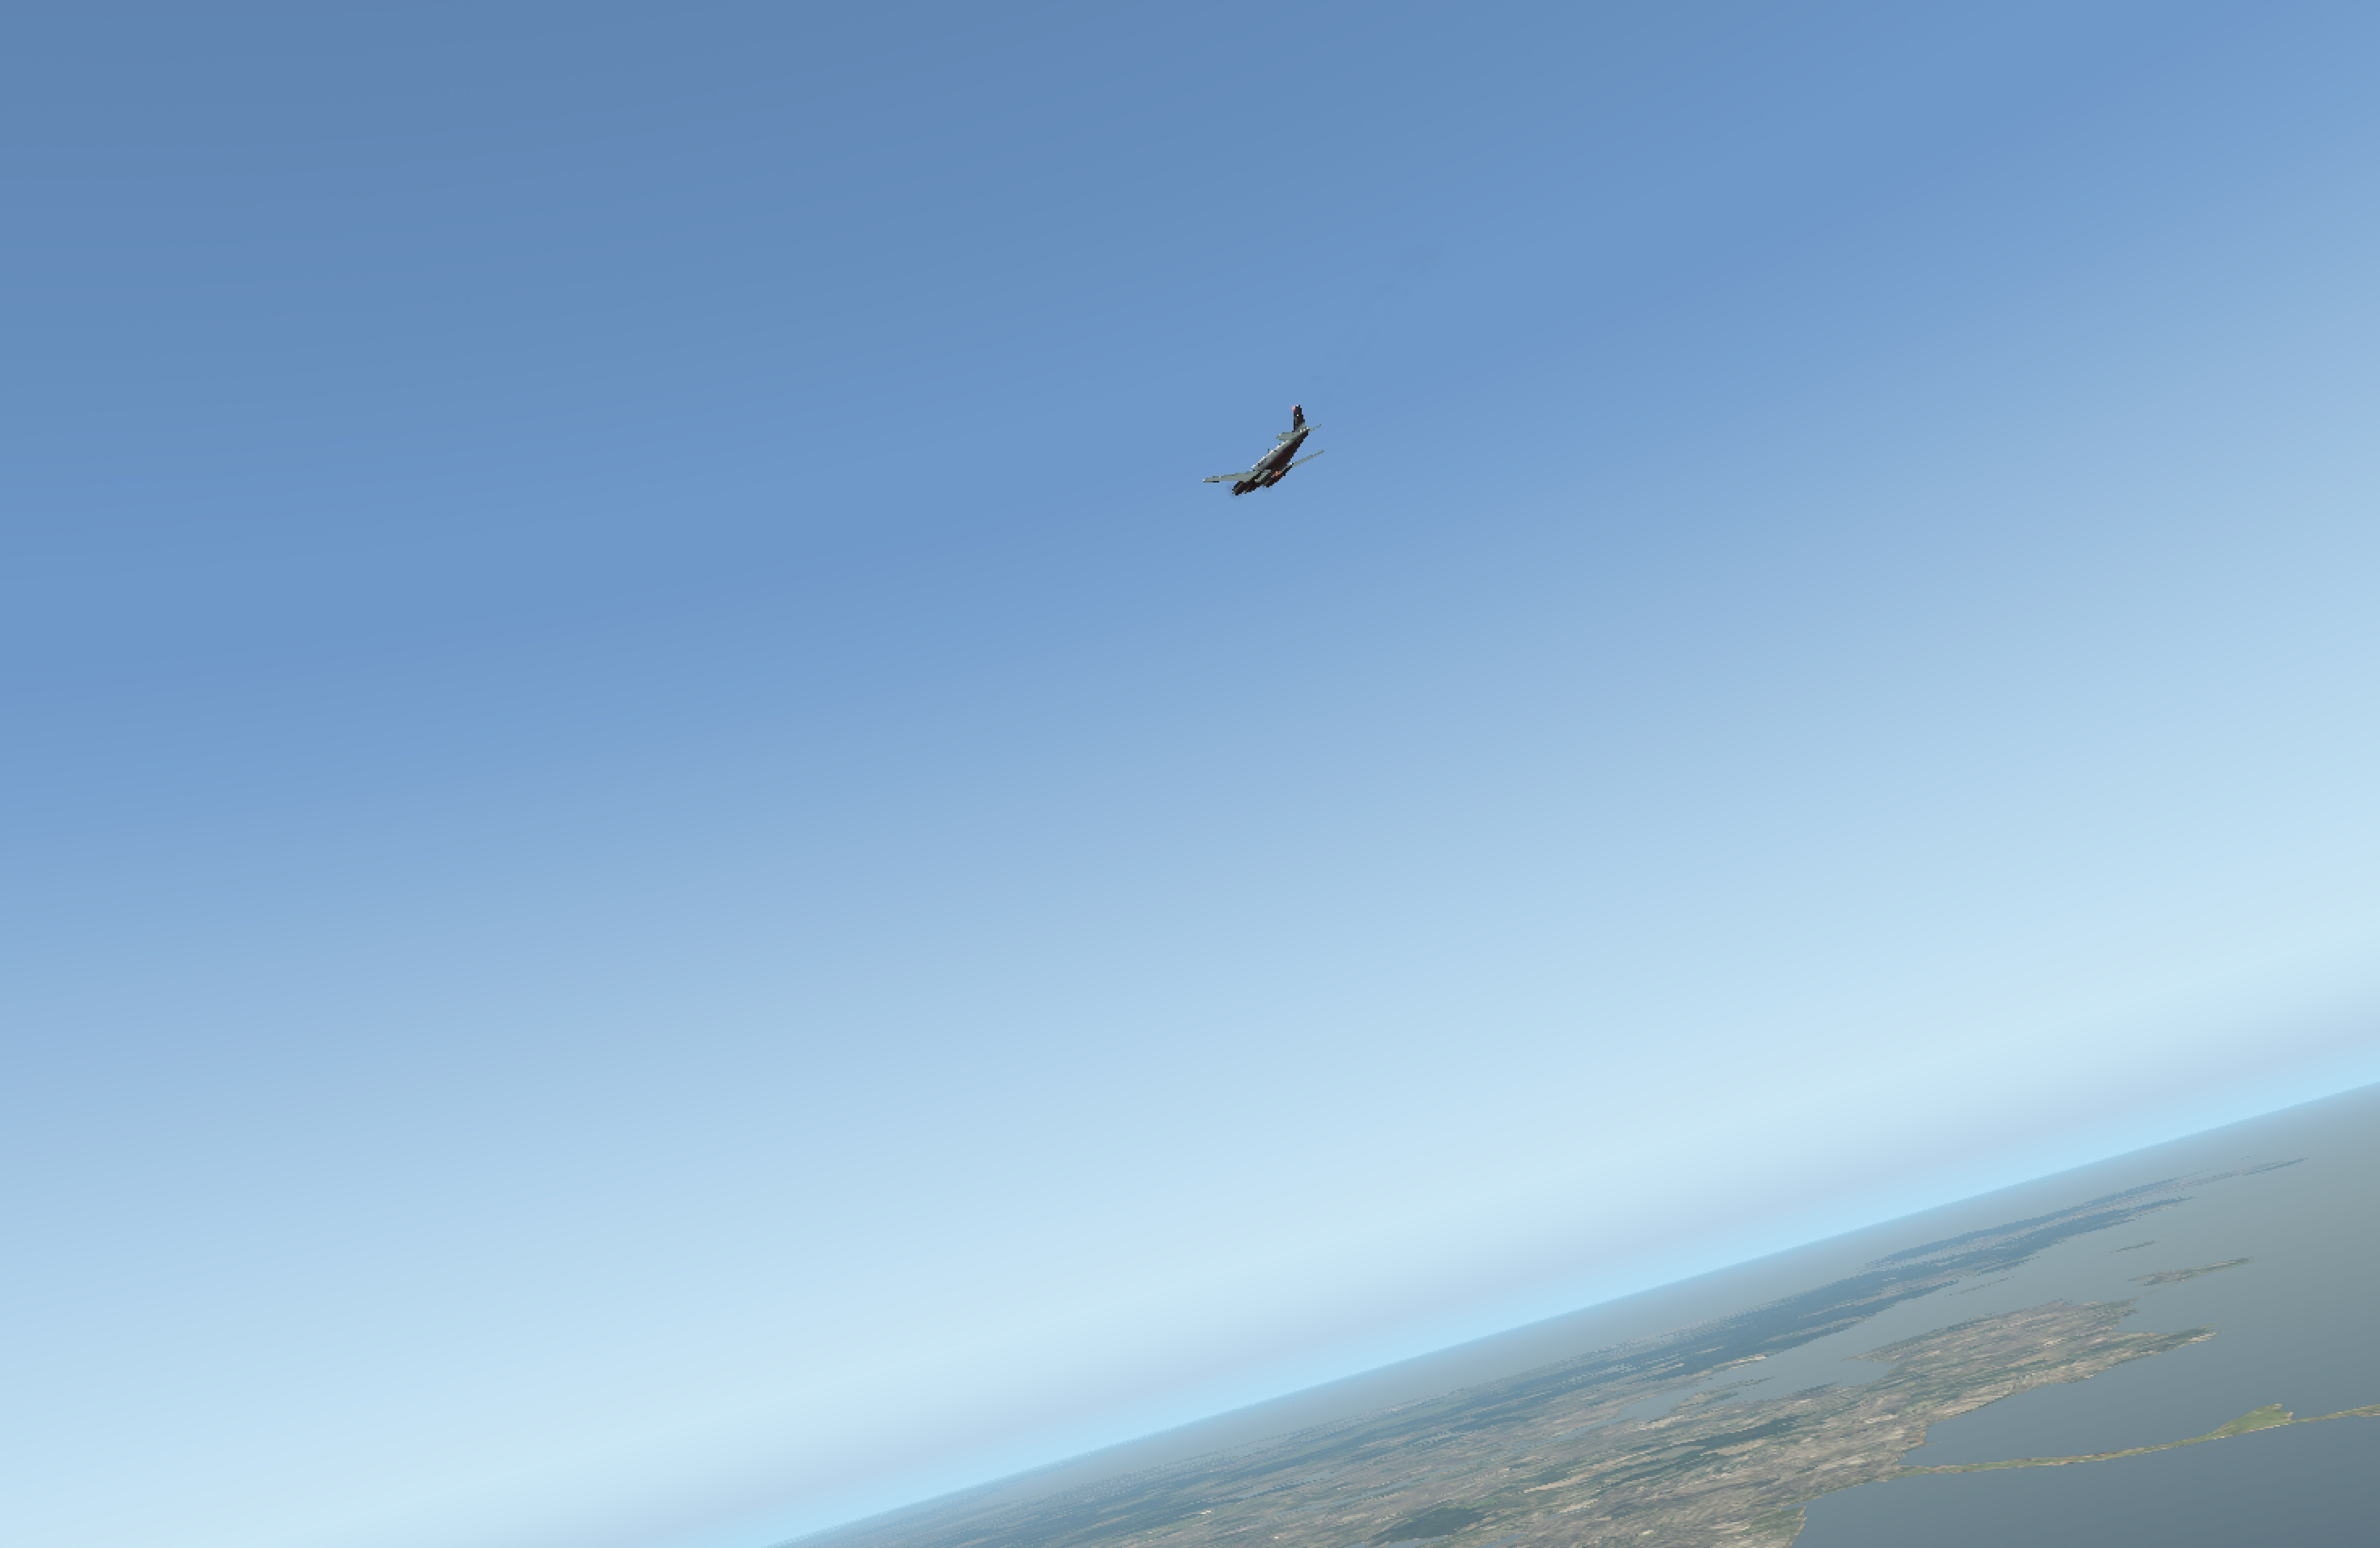aircraft: (1181, 444, 1355, 510)
